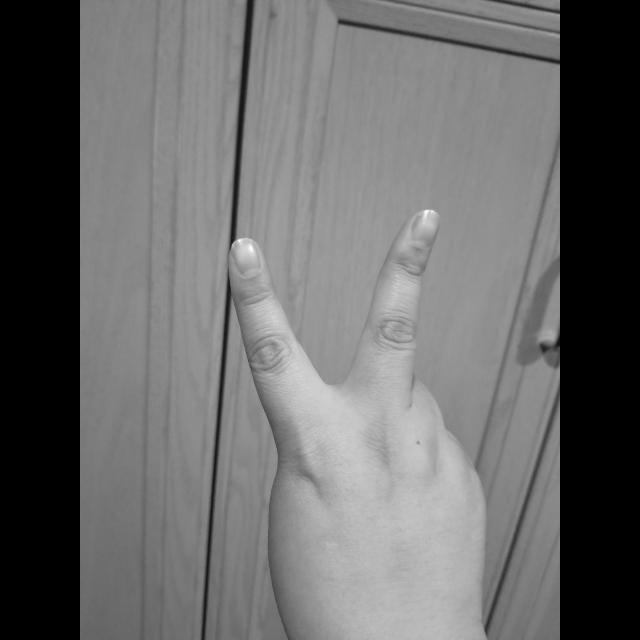V: (224, 205, 504, 640)
